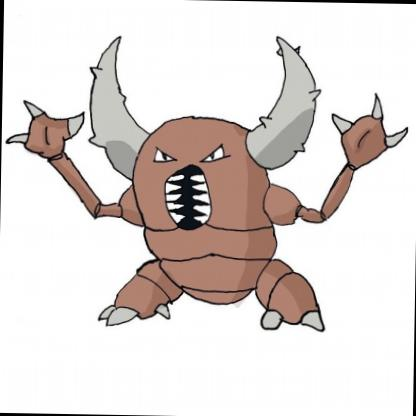Pinsir: (15, 18, 416, 416)
